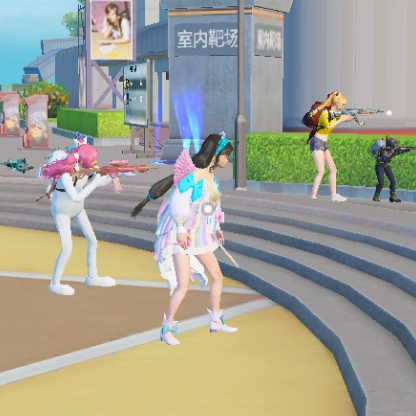ren: (158, 131, 236, 346), (42, 138, 118, 296), (308, 88, 349, 203), (372, 132, 406, 204), (93, 4, 131, 43)
tou: (197, 133, 233, 171), (70, 143, 100, 169), (327, 90, 347, 111), (101, 3, 123, 22), (384, 136, 399, 149)
